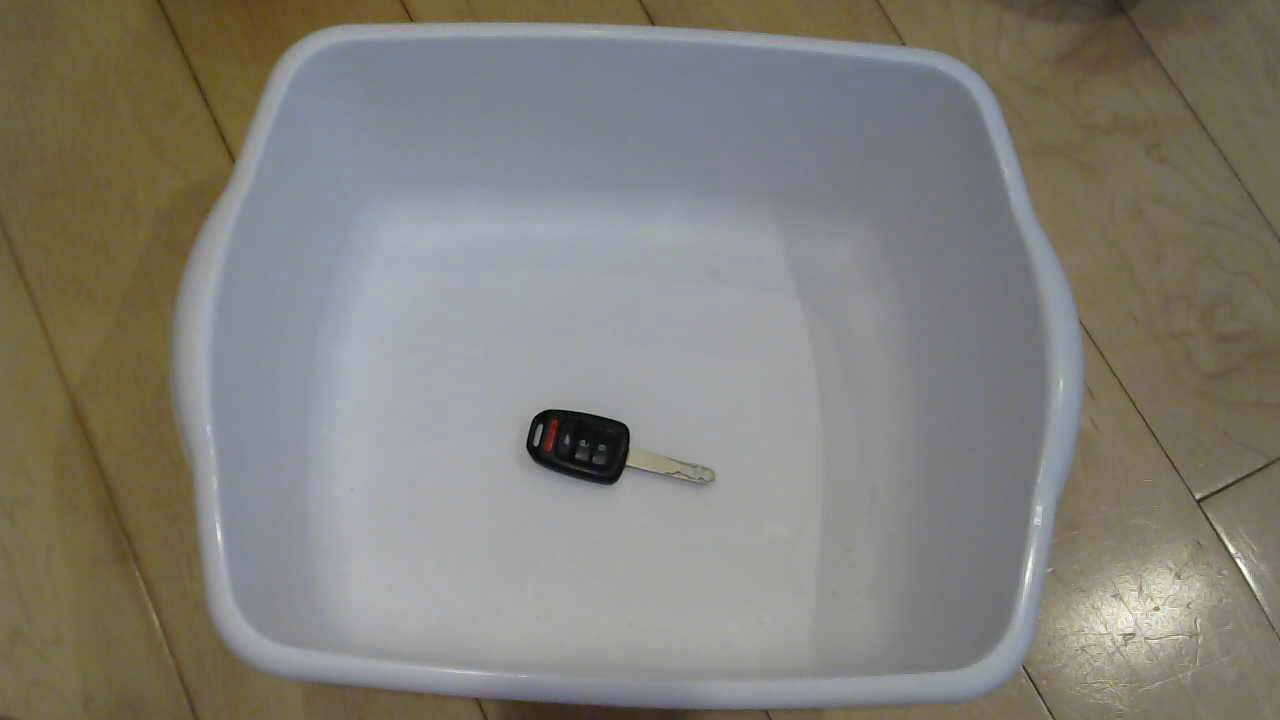key: (523, 409, 732, 502)
